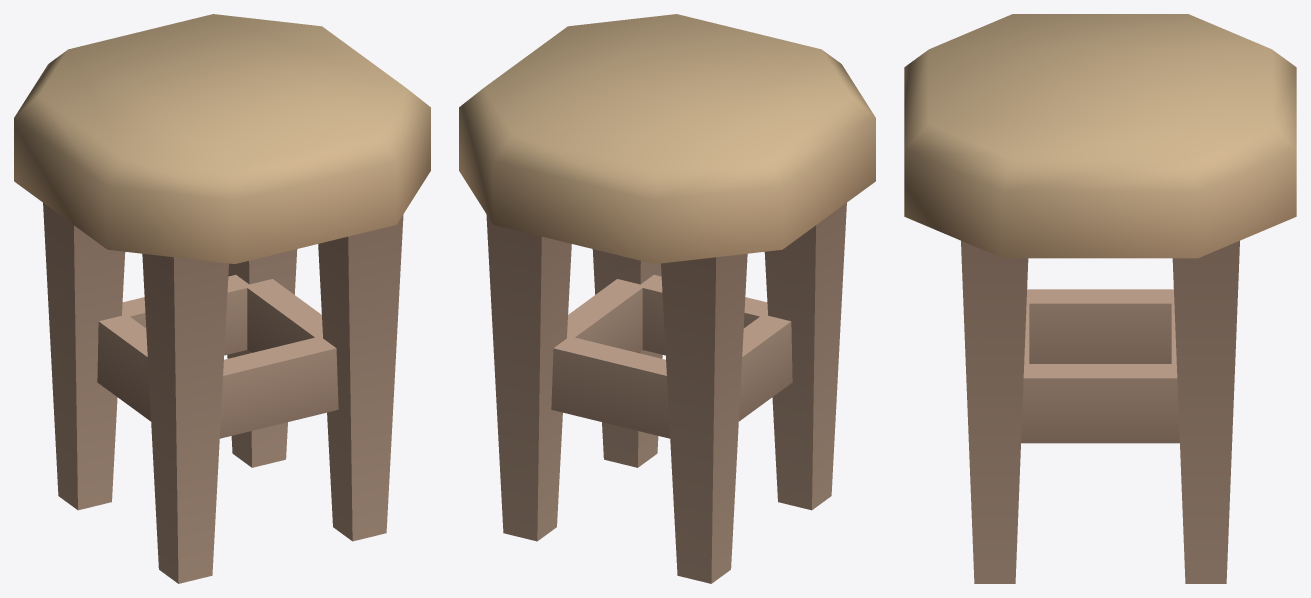
File: bar-stool-basic.glb
3 renders of one model, left to right at view 1: azimuth 30°, elevation 25°; view 2: azimuth 150°, elevation 25°; view 3: azimuth 270°, elevation 25°, orthographic. The views are drawn at different scales.
Parts seen in each view (by area): view 1: bar-stool-basic; view 2: bar-stool-basic; view 3: bar-stool-basic.
Part boxes in pixels (x1,y1,x2,y2): bar-stool-basic: [14, 14, 430, 583]; bar-stool-basic: [459, 14, 875, 583]; bar-stool-basic: [904, 14, 1296, 583].
Bounding box in the file's own units: 0.4 × 0.5 × 0.4.
